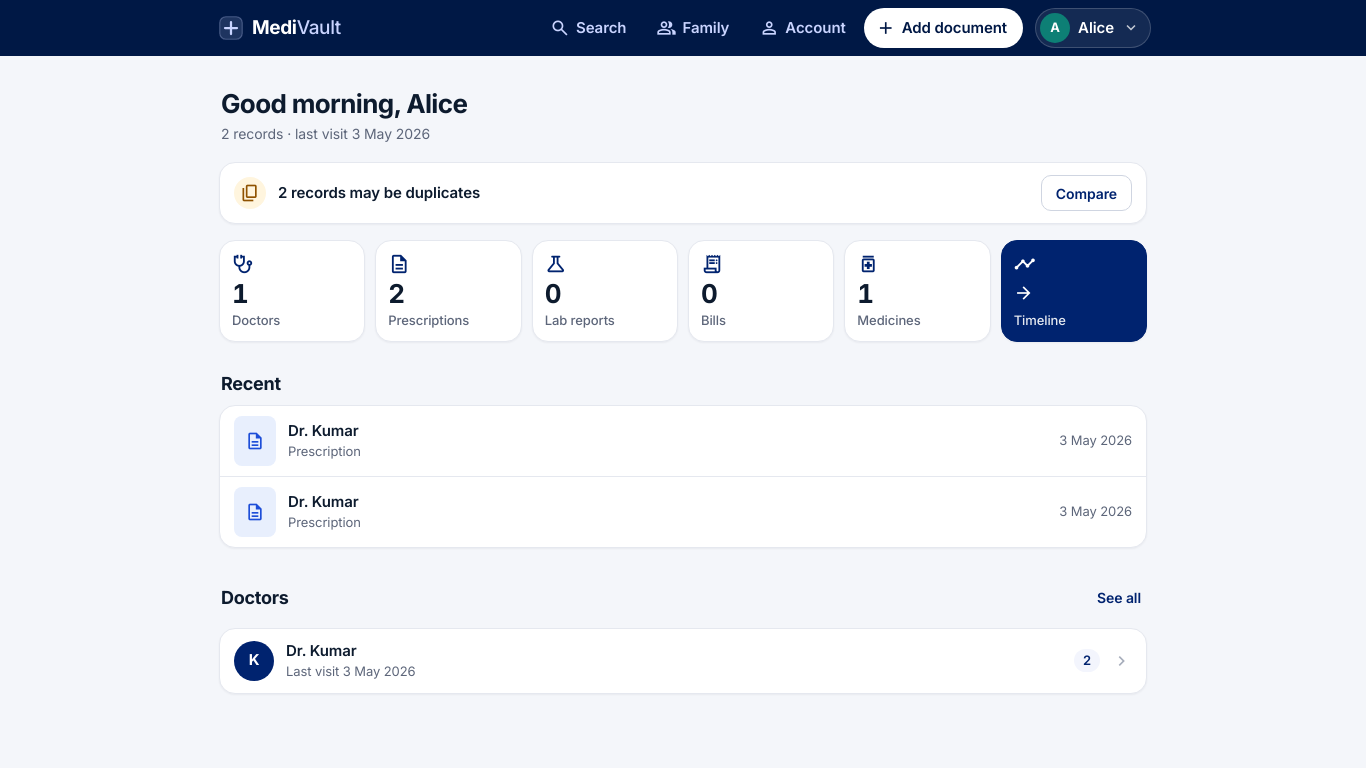
Test case: possible duplicates are compared, and keeping both only hides the hint
Click the button "Compare" at [1086, 193], box x1=1041 y1=175 x2=1132 y2=211
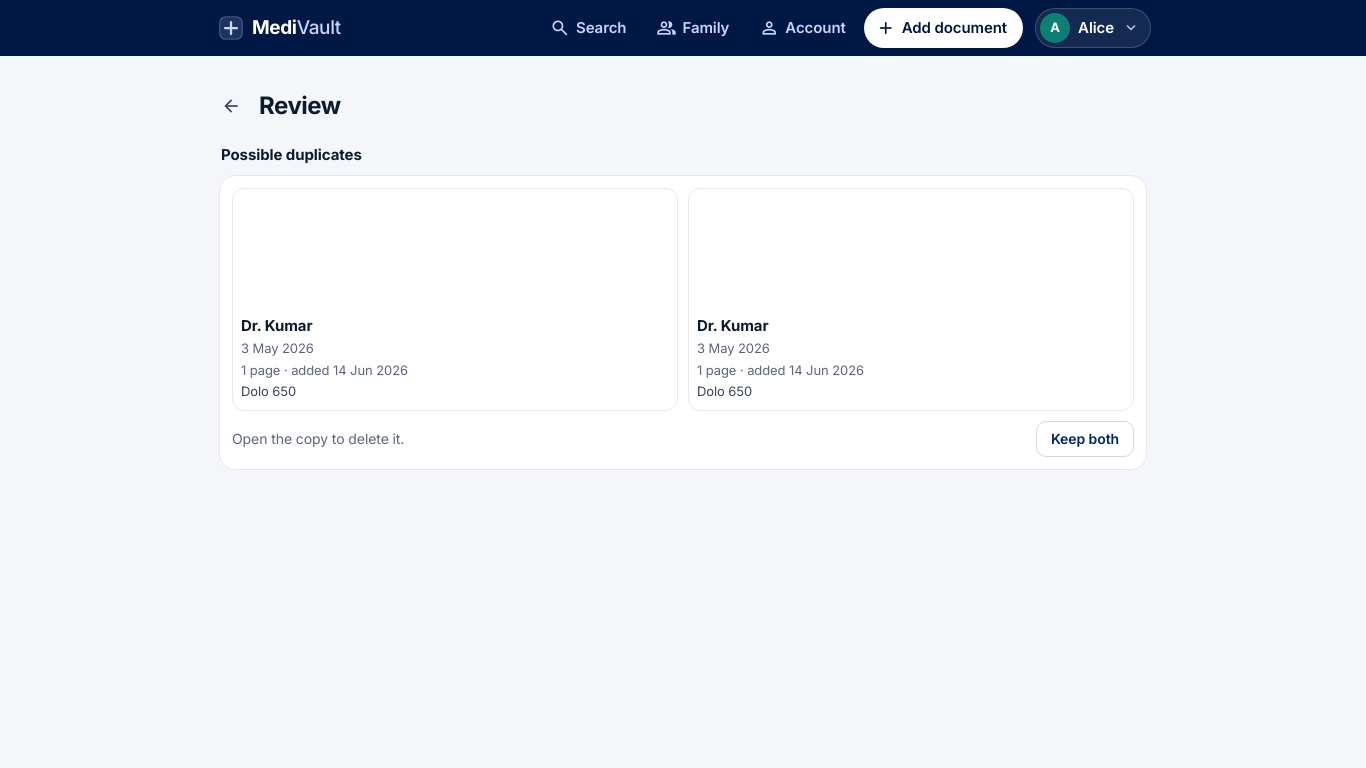
Expected: the heading "Possible duplicates" is shown, x1=221 y1=145 x2=362 y2=164
Click the button "Keep both" at [1085, 438], box x1=1036 y1=420 x2=1134 y2=456
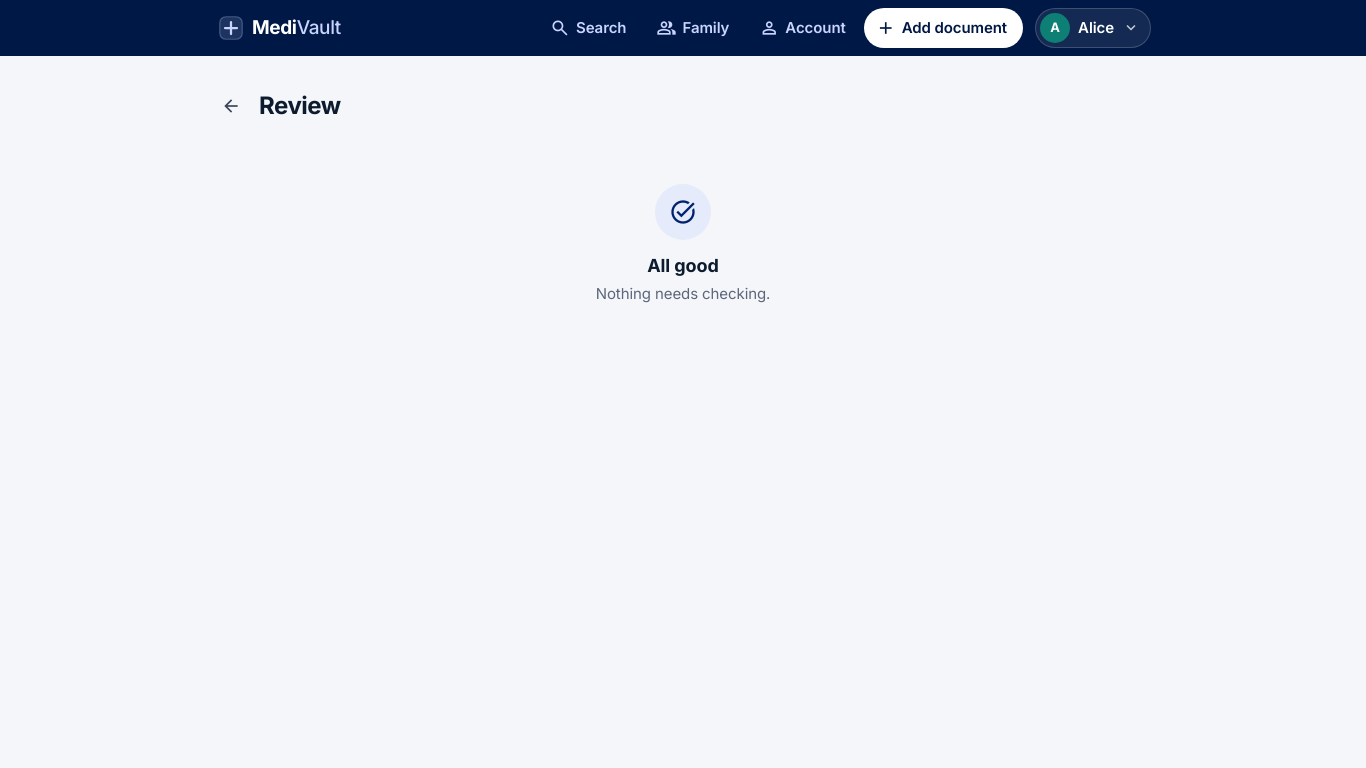
Expected: the heading "Possible duplicates" is gone
